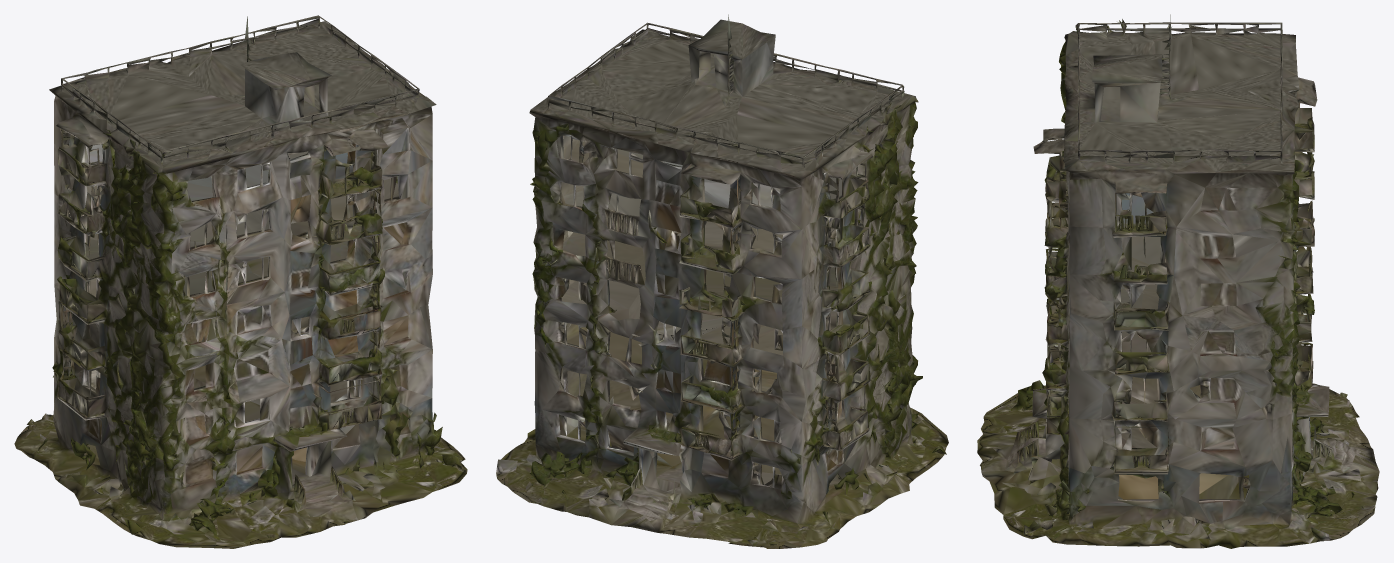
The model's file is plattenbau.glb.
3 views of the same model, side by side, from view 1: azimuth 30°, elevation 25°; view 2: azimuth 150°, elevation 25°; view 3: azimuth 270°, elevation 25° (orthographic). The views are drawn at different scales.
Parts seen in each view (by area): view 1: modell; view 2: modell; view 3: modell.
Boxes of the visible parts, x1,y1,x2,y2 form: modell: [14, 15, 467, 548]; modell: [496, 14, 948, 548]; modell: [977, 14, 1379, 548].
Size of the model in its own units: 1.56 by 1.9 by 1.54.
1 material, 1 textured.
